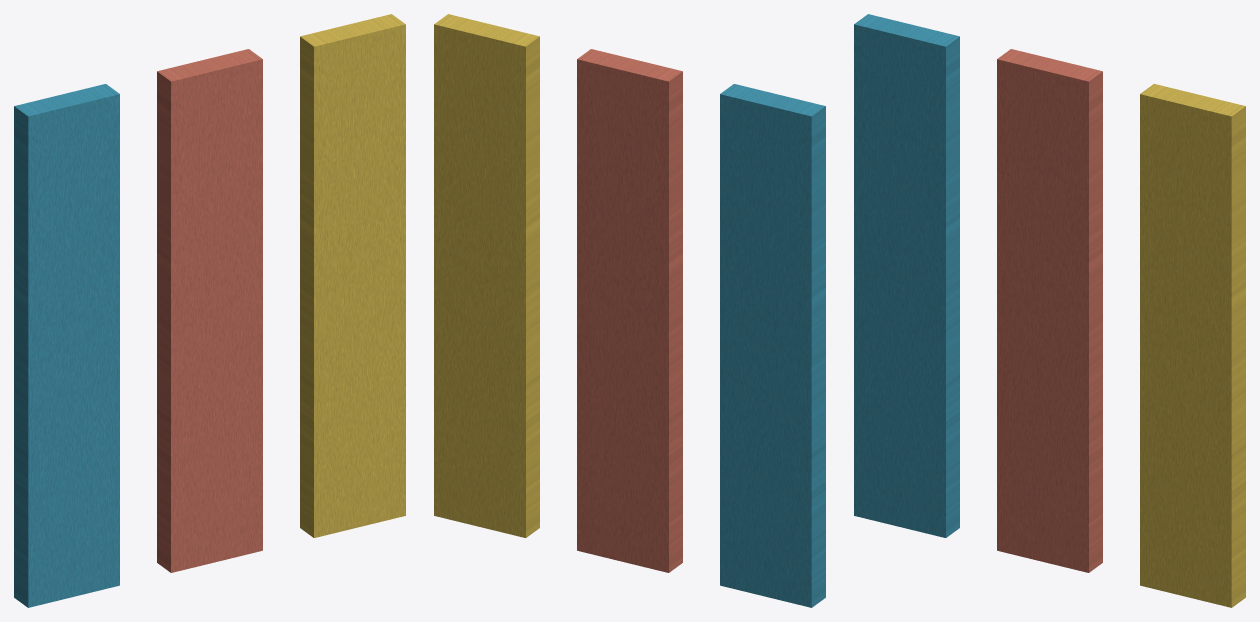
The model's file is surfboards_lod1.glb.
3 renders of one model, left to right at view 1: azimuth 30°, elevation 25°; view 2: azimuth 150°, elevation 25°; view 3: azimuth 330°, elevation 25°, orthographic.
Parts seen in each view (by area): view 1: world; view 2: world; view 3: world.
Boxes of the visible parts, x1,y1,x2,y2 form: world: (14,14,405,607); world: (434,14,825,607); world: (854,14,1245,607).
Bounding box in the file's own units: 1.85 × 2.3 × 0.12.
3 materials, 3 textured.
